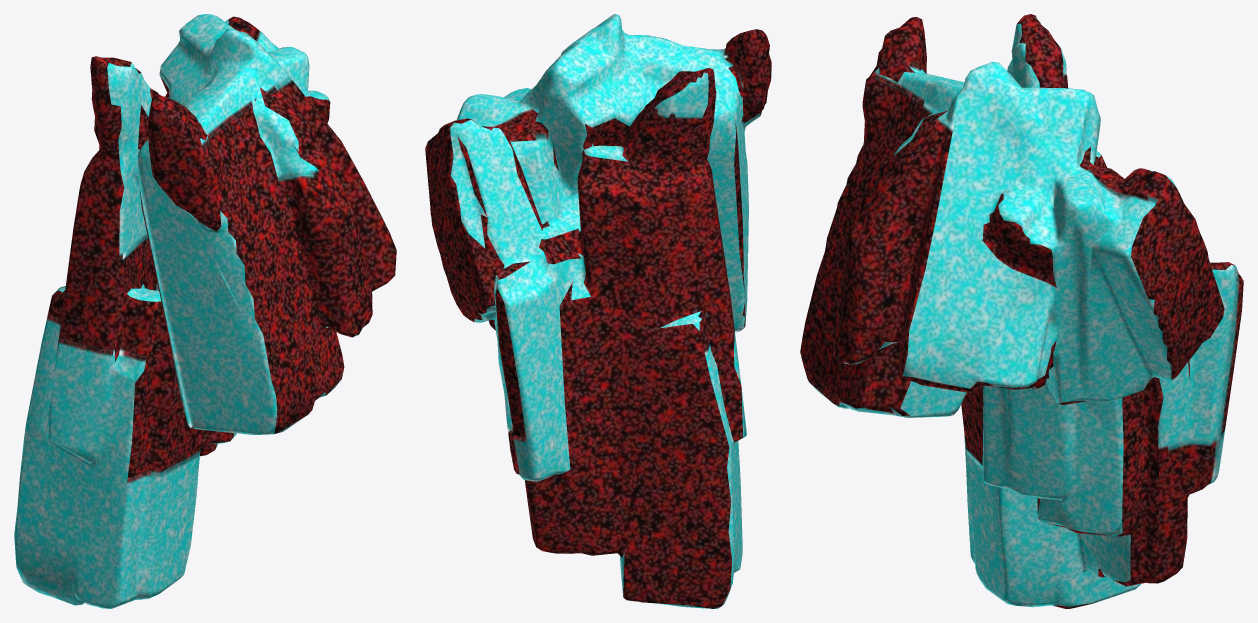
3 renders of one model, left to right at view 1: azimuth 30°, elevation 25°; view 2: azimuth 150°, elevation 25°; view 3: azimuth 270°, elevation 25°, orthographic. The views are drawn at different scales.
Visible parts, largest first — view 1: SM_L_World_MainGrid_L0_X10_Y2_0_ShadowProxy_LOD0; view 2: SM_L_World_MainGrid_L0_X10_Y2_0_ShadowProxy_LOD0; view 3: SM_L_World_MainGrid_L0_X10_Y2_0_ShadowProxy_LOD0.
Part boxes in pixels (x1,y1,x2,y2): SM_L_World_MainGrid_L0_X10_Y2_0_ShadowProxy_LOD0: [14, 14, 396, 608]; SM_L_World_MainGrid_L0_X10_Y2_0_ShadowProxy_LOD0: [425, 14, 771, 608]; SM_L_World_MainGrid_L0_X10_Y2_0_ShadowProxy_LOD0: [800, 14, 1243, 608].
Size of the model in its own units: 297 by 518 by 359.
Materials: 1 (1 with a texture image).
